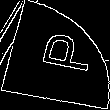P_W: (20, 31, 90, 79)
